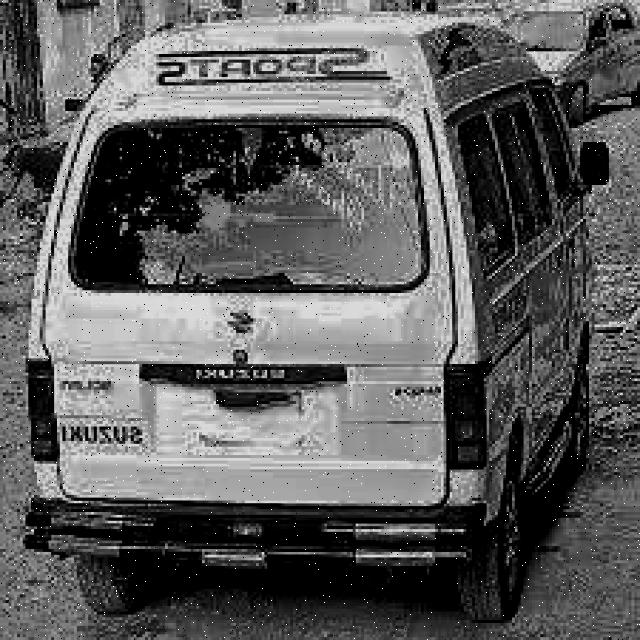LCV: (17, 17, 612, 623)
